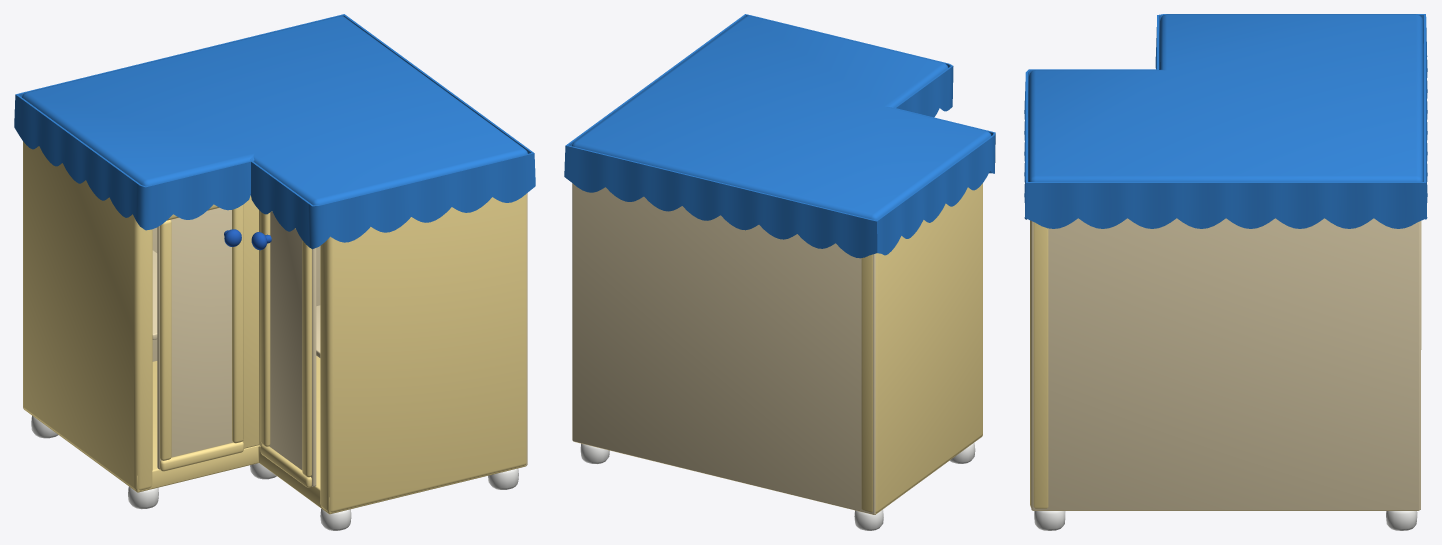
File: armario_cozinha_canto_campestre_azul.glb
3 renders of one model, left to right at view 1: azimuth 30°, elevation 25°; view 2: azimuth 150°, elevation 25°; view 3: azimuth 270°, elevation 25°, orthographic. The views are drawn at different scales.
Parts seen in each view (by area): view 1: armario_cozinha_canto_campestre_azul, porta_1, porta_2; view 2: armario_cozinha_canto_campestre_azul; view 3: armario_cozinha_canto_campestre_azul.
Part boxes in pixels (box(x1,y1,x2,y2)): armario_cozinha_canto_campestre_azul: box(14, 14, 535, 530); porta_1: box(157, 204, 243, 471); porta_2: box(251, 211, 316, 487); armario_cozinha_canto_campestre_azul: box(564, 14, 995, 530); armario_cozinha_canto_campestre_azul: box(1024, 14, 1427, 530).
Bounding box in the file's own units: 0.918 × 0.9 × 0.919.
Materials: 1 (1 with a texture image).
